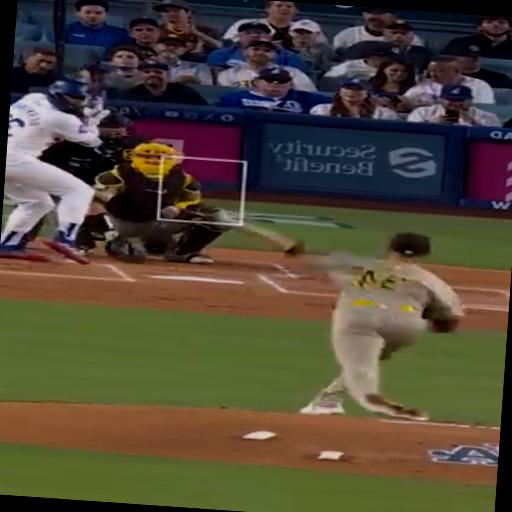bat: (84, 52, 97, 106)
